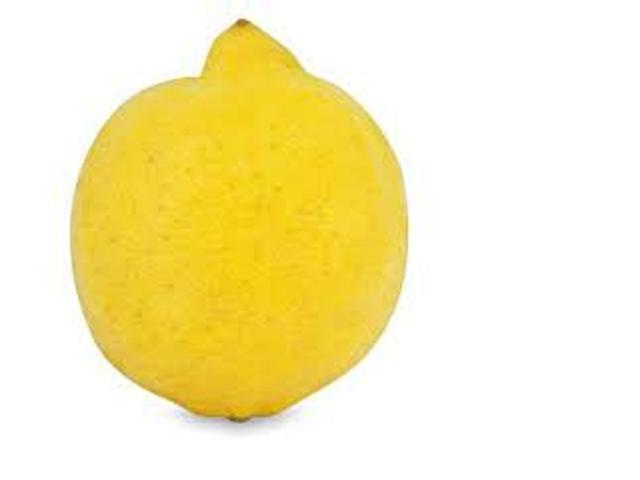lemon: (64, 15, 460, 451)
